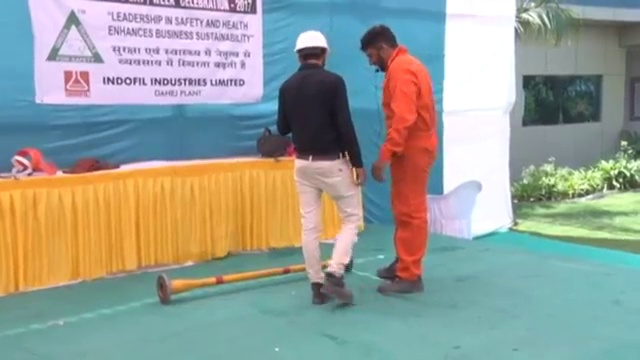helmet: (292, 29, 331, 54)
helmet_off: (360, 24, 399, 74)
helmet_on: (291, 28, 332, 71)
person: (274, 29, 367, 308), (356, 22, 441, 296)
